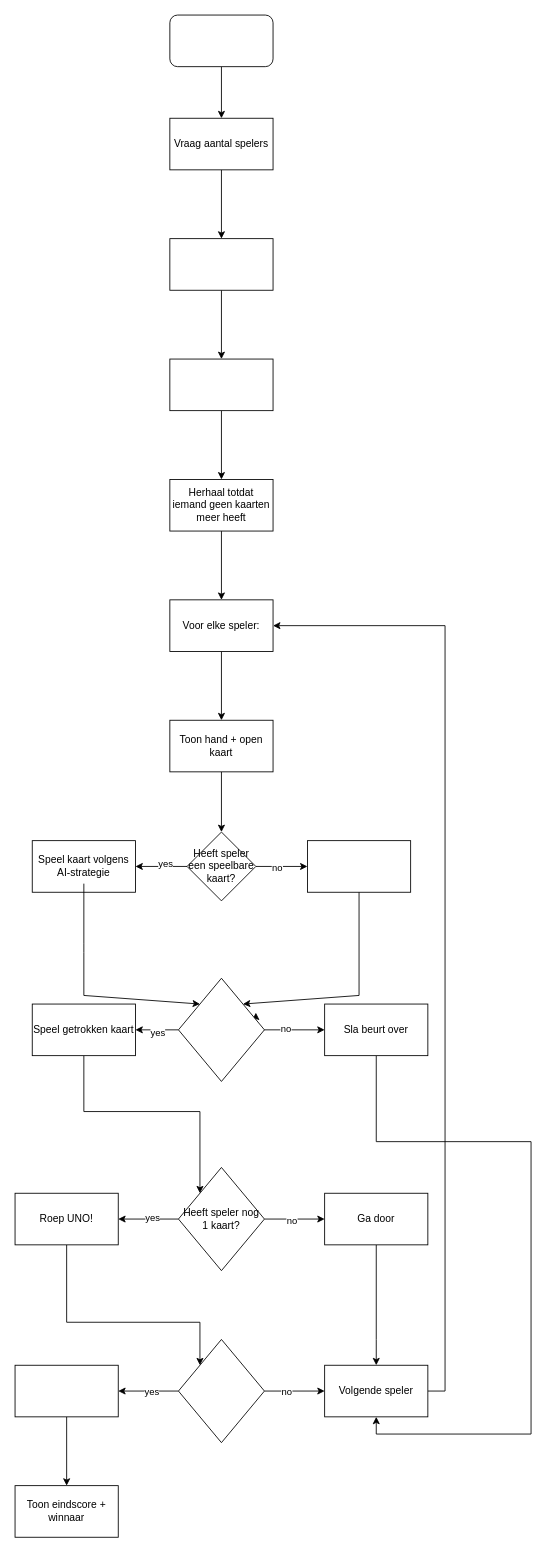
Some shapes in this 553 by 1552 pixel diagram are drawn without their labels. Each missing label, with the box of its shape:
Genereer spelers + Deel 7 kaarten per speler: (169, 238, 273, 290)
Heeft speler 0 kaarten?: (178, 1339, 264, 1443)
Heeft speler nu een speelbare kaart?: (178, 977, 264, 1081)
Leg de bovenste kaart op de stapel: (169, 358, 273, 411)
start: (169, 14, 273, 67)
Stop spel, speler wint: (14, 1364, 118, 1417)
Trek kaart: (307, 840, 411, 892)
